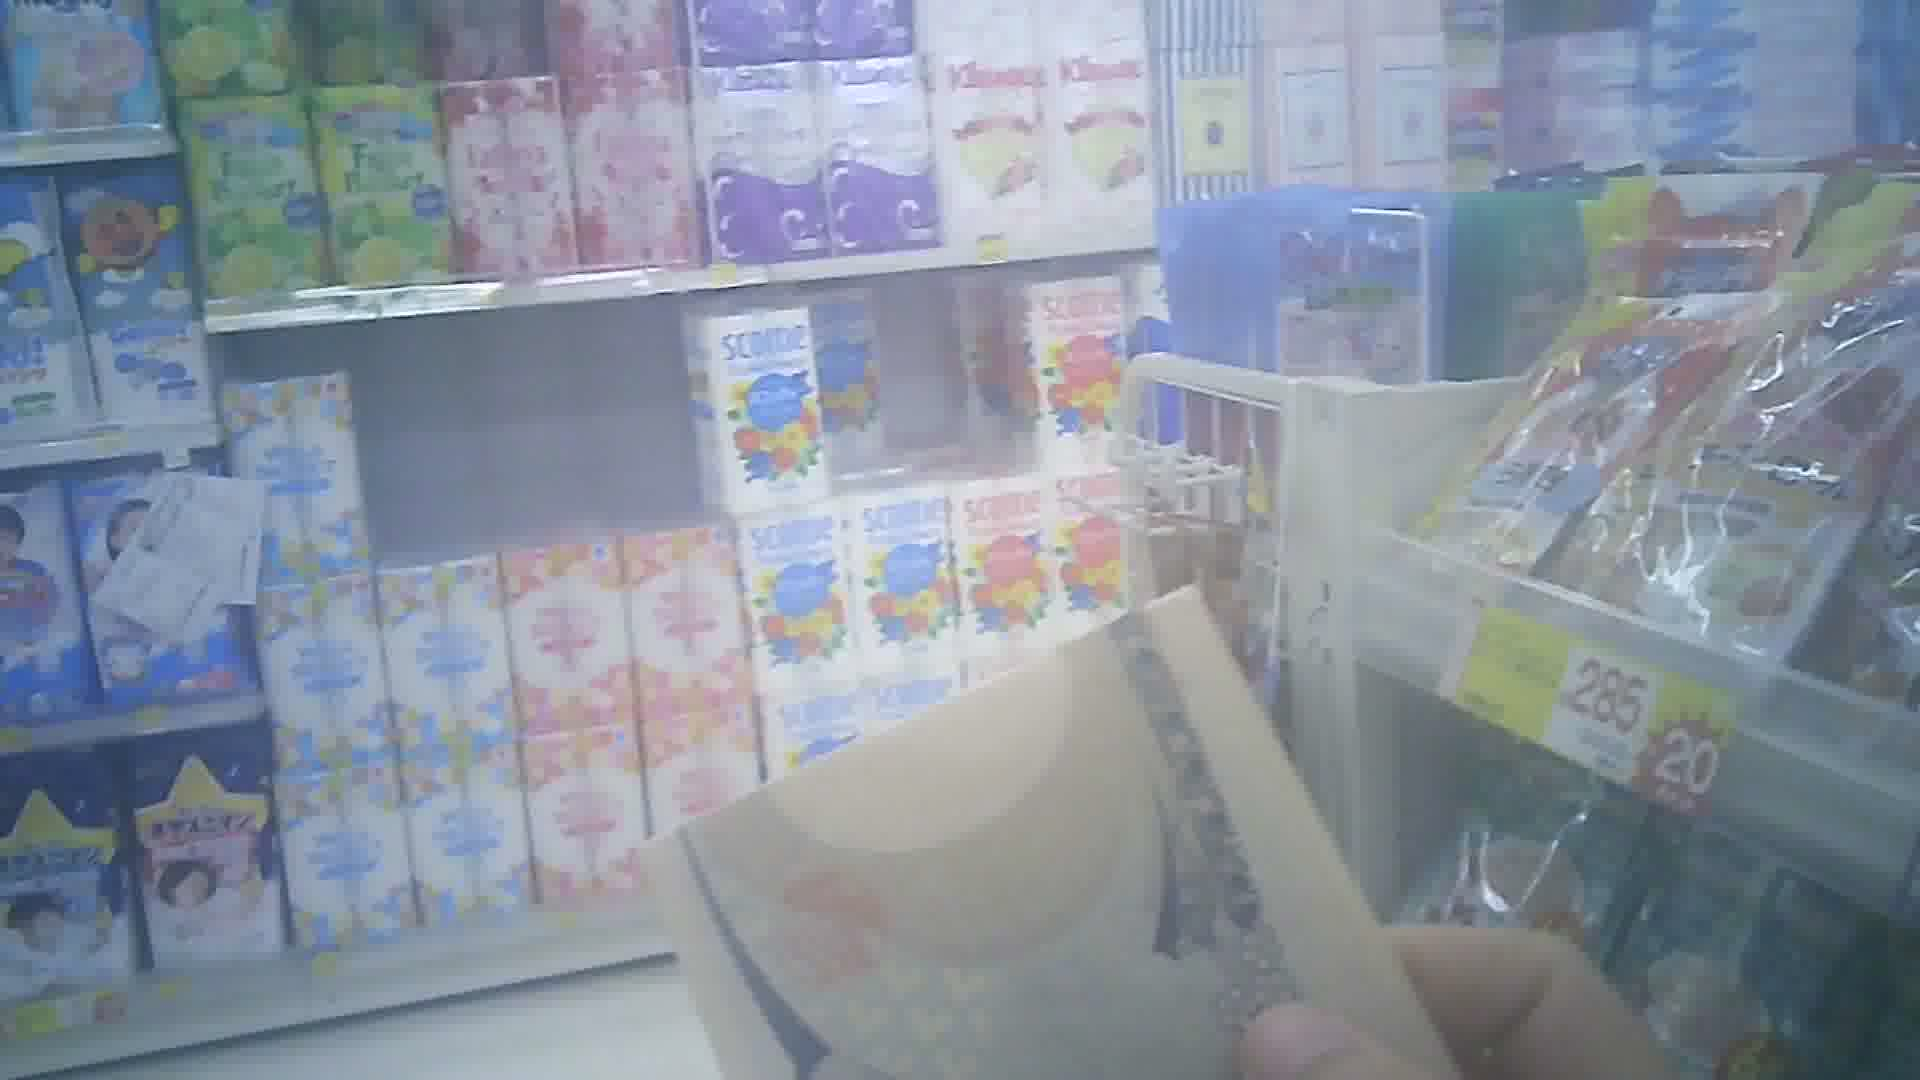1,000 Yen: (653, 575, 1389, 1079)
